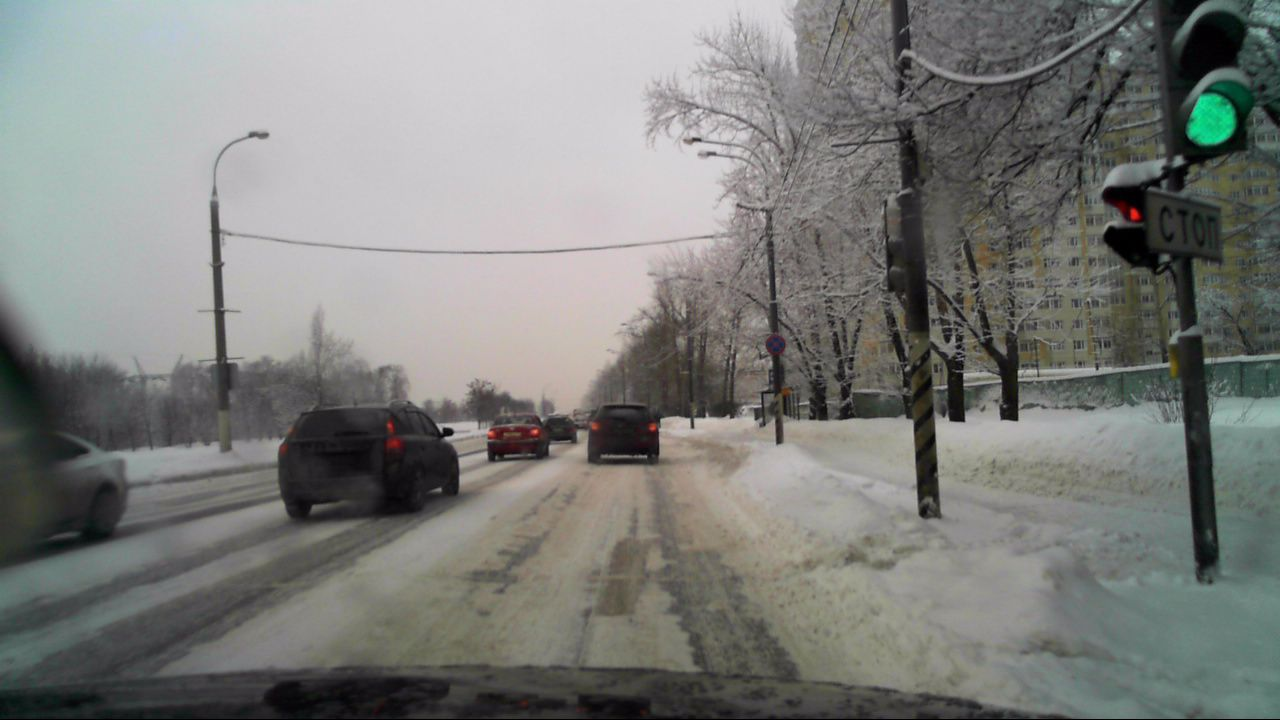No Parking: (760, 332, 786, 359)
